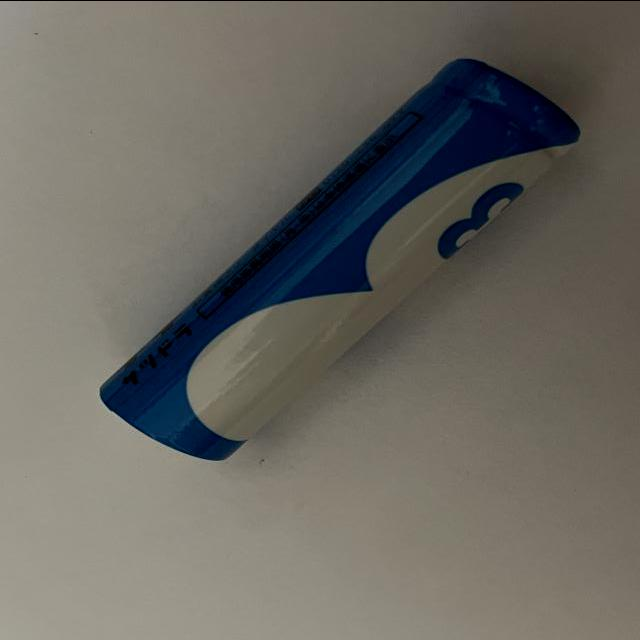AA: (101, 55, 584, 462)
